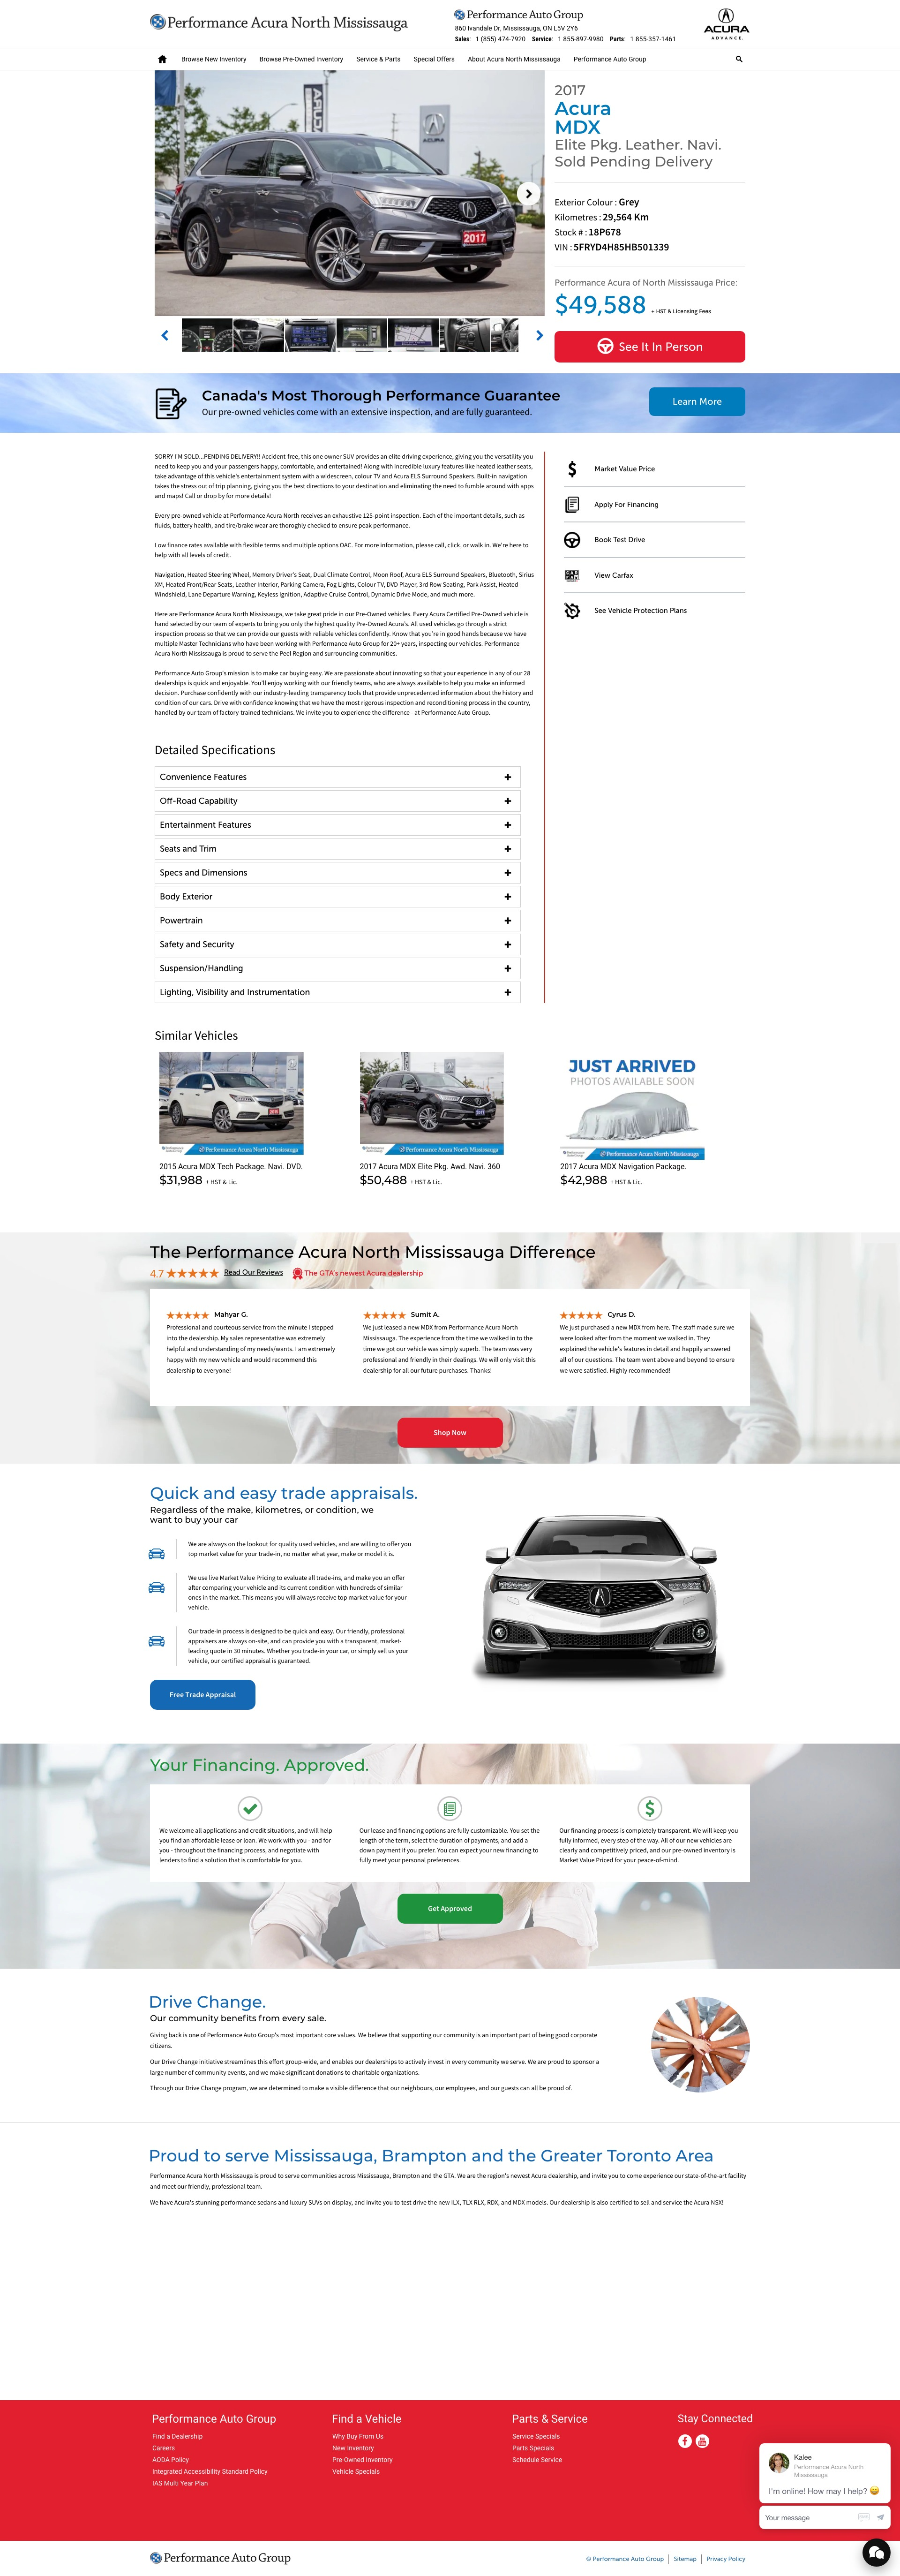car: (535, 330, 544, 342)
